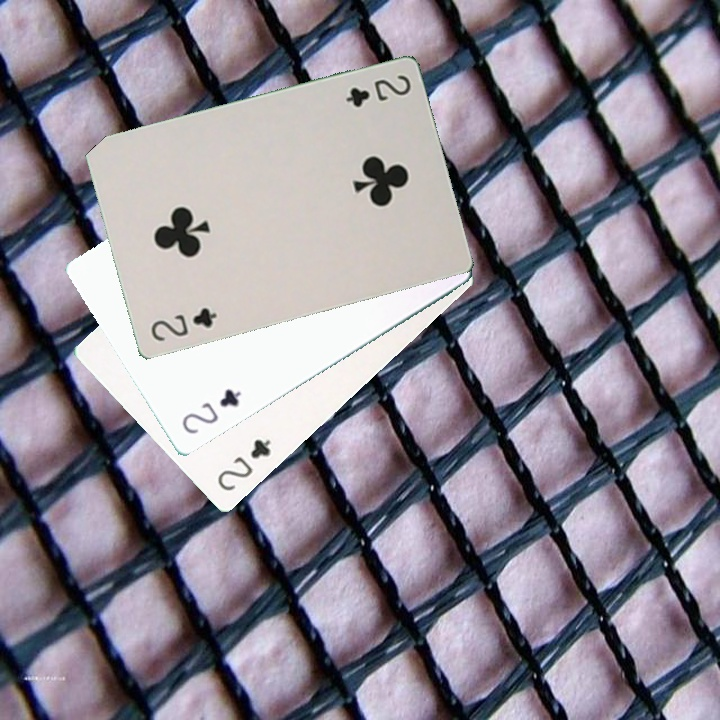2c: (213, 435, 274, 494), (177, 384, 244, 437), (147, 303, 220, 344), (341, 70, 414, 110)
